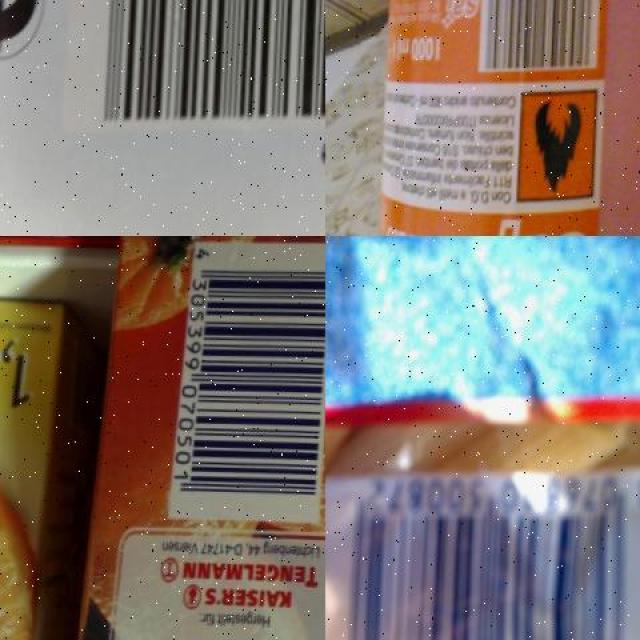Barcode: (325, 474, 639, 640), (170, 236, 326, 527), (67, 0, 325, 132), (476, 0, 608, 72)
